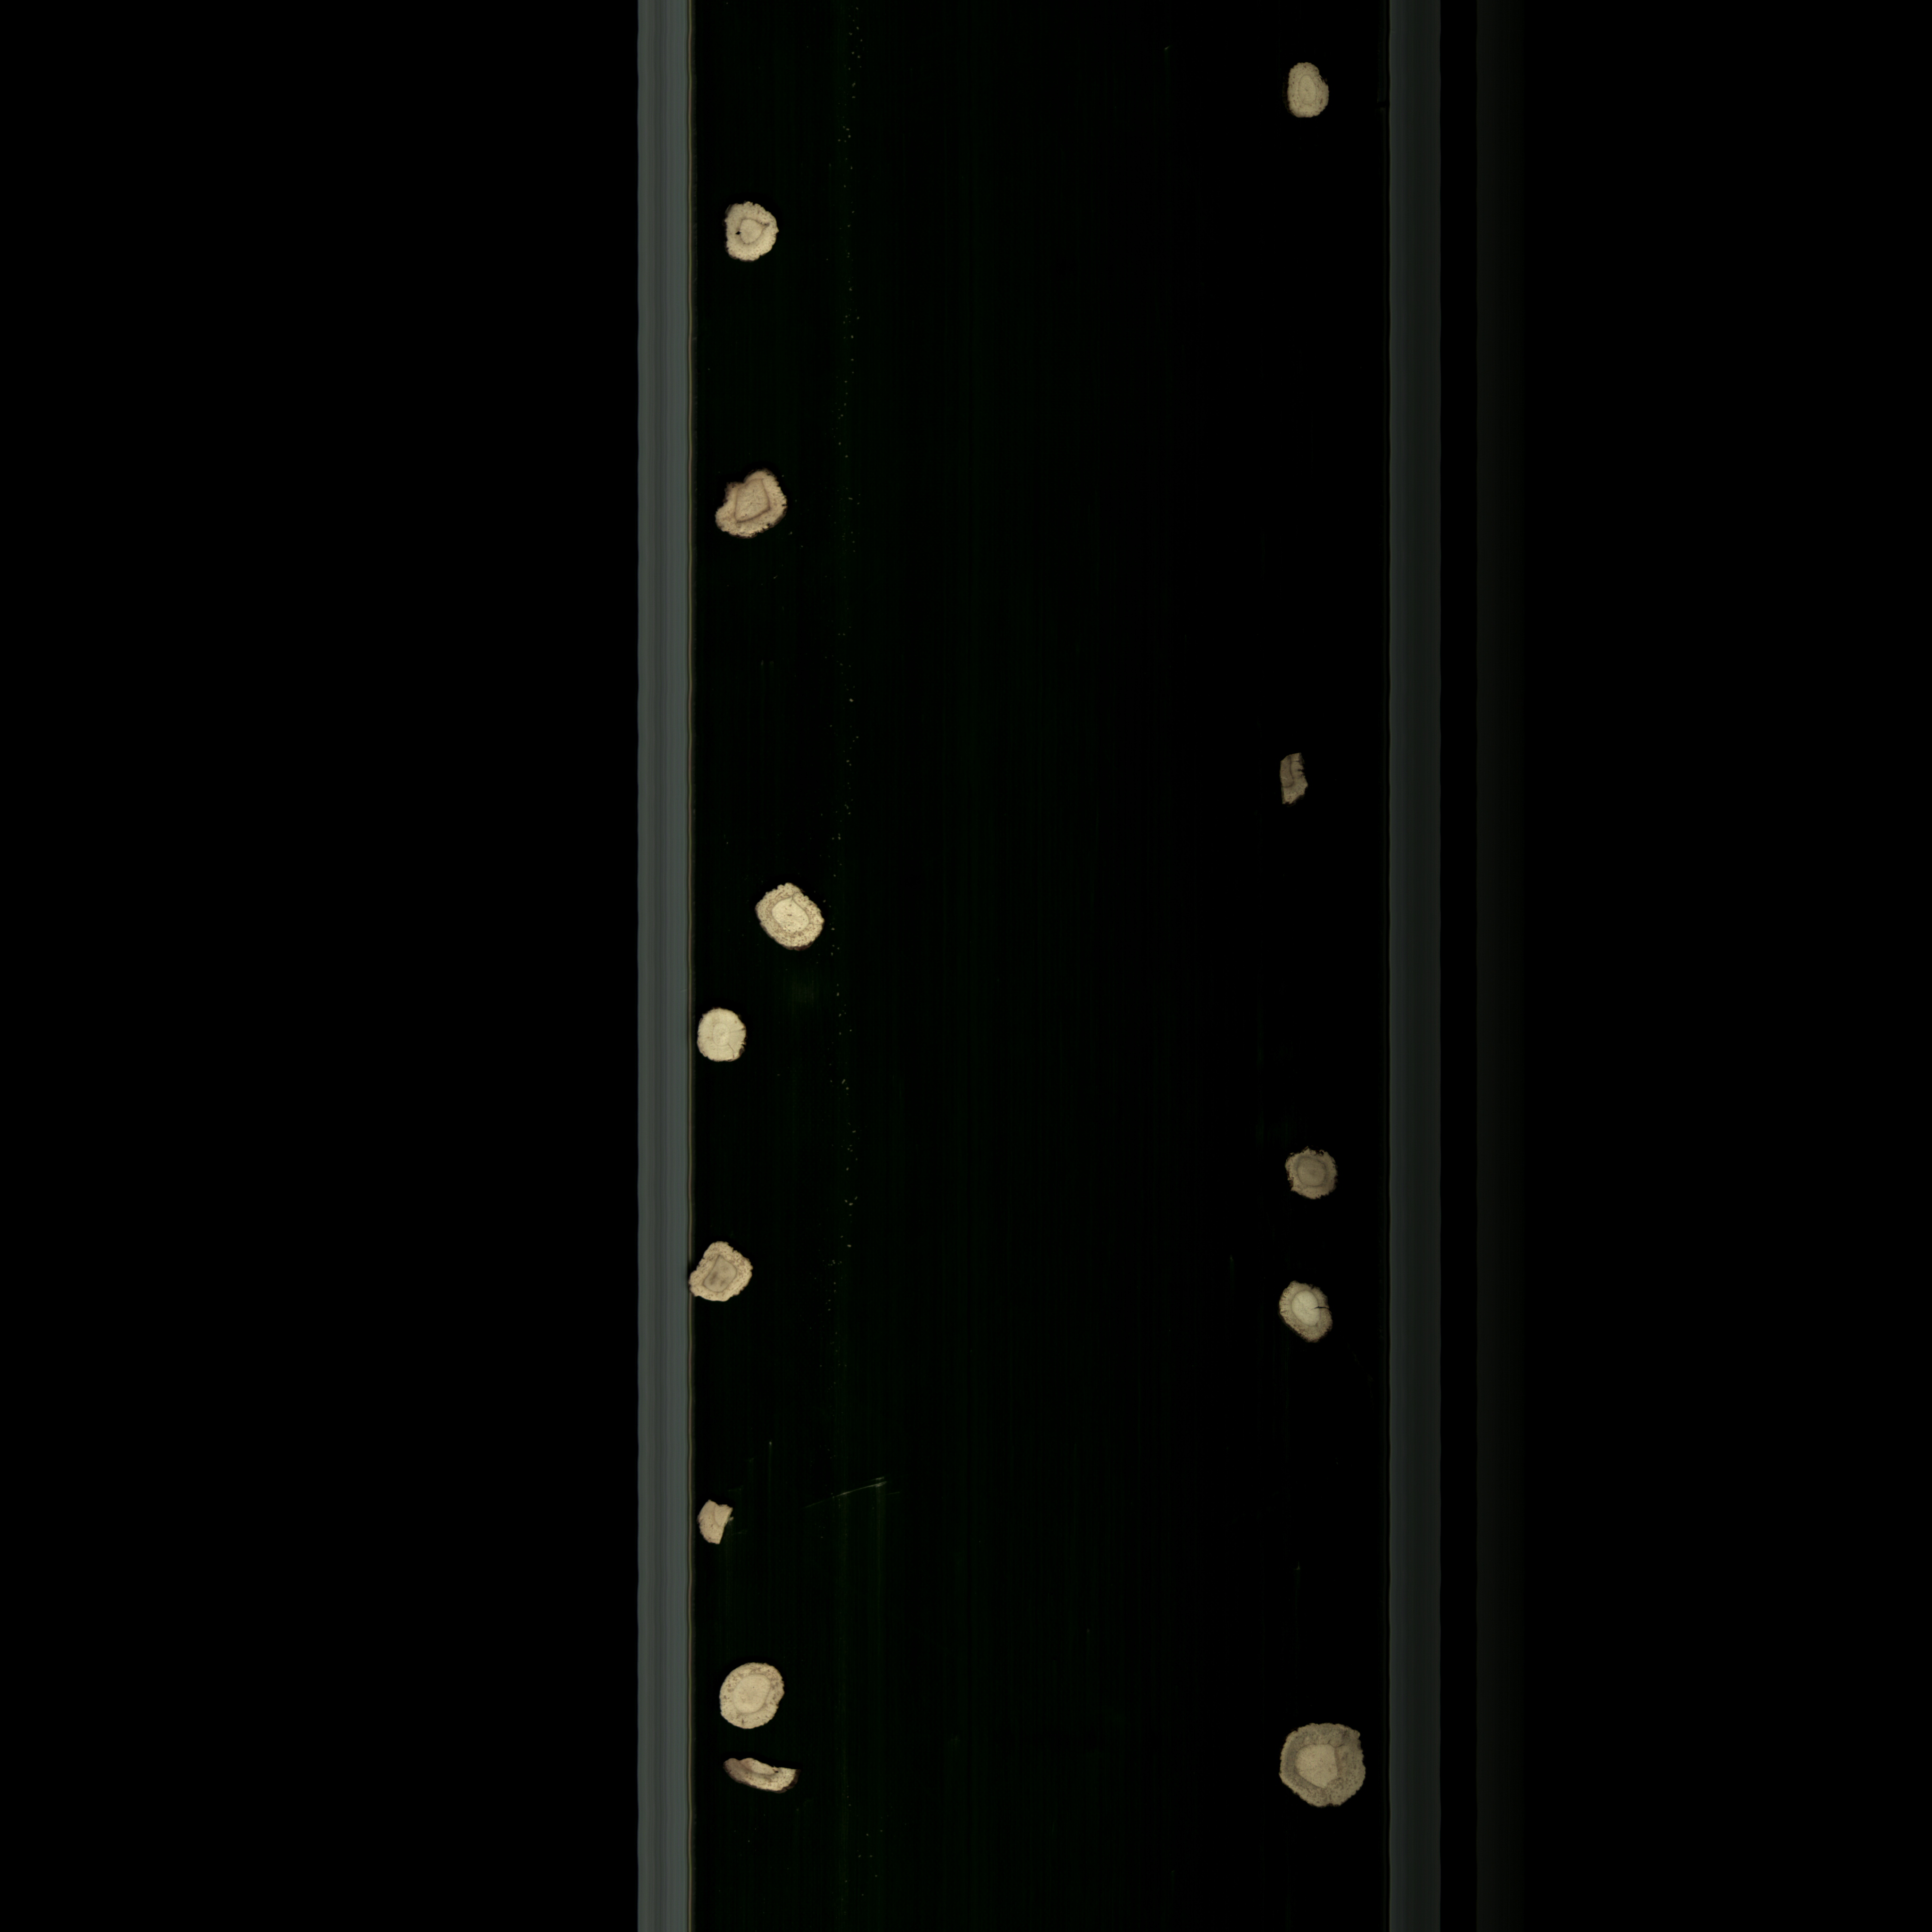debris: (711, 1750, 809, 1803)
distortion: (741, 883, 833, 954), (717, 191, 791, 269), (1270, 1274, 1336, 1355), (1274, 57, 1336, 127)
dreg: (695, 1488, 747, 1548)
moldy: (1267, 1713, 1375, 1822), (709, 462, 803, 547), (678, 1237, 768, 1313), (1274, 1145, 1345, 1212), (1267, 741, 1318, 816)
